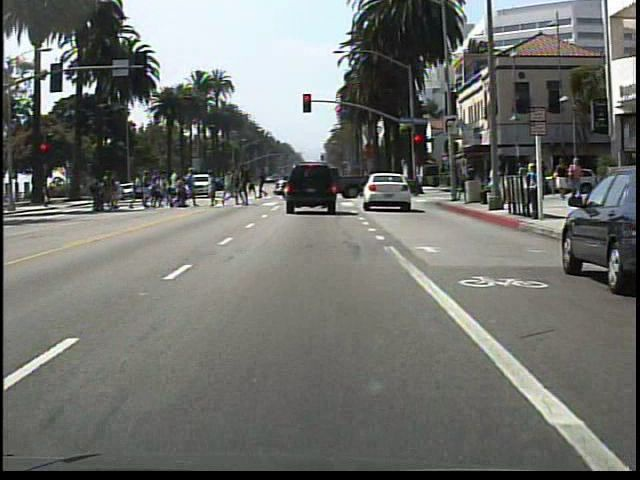person: (521, 159, 540, 221), (568, 155, 587, 202), (552, 155, 570, 199)
